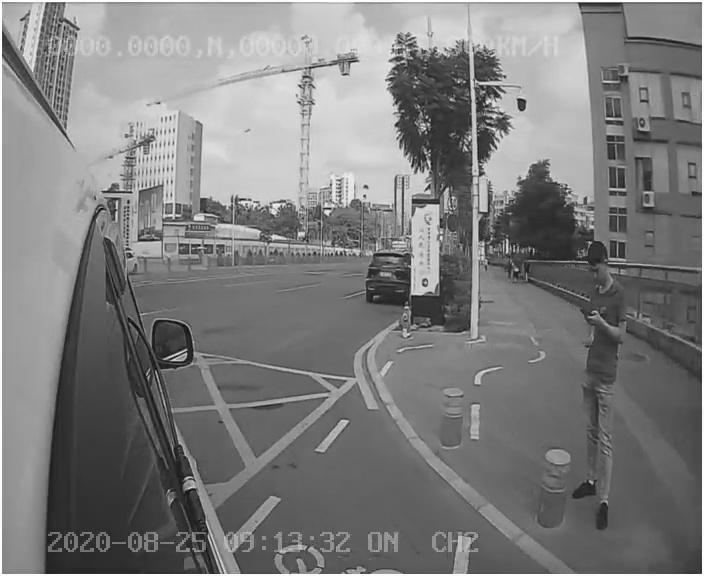person: (568, 238, 641, 534)
